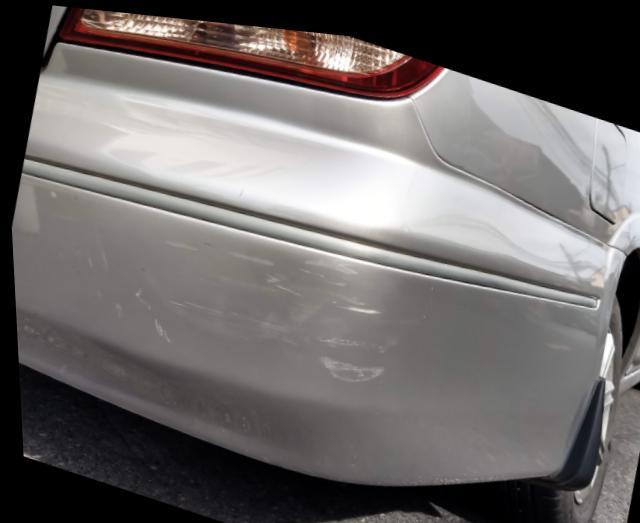scratch: (134, 226, 396, 386)
